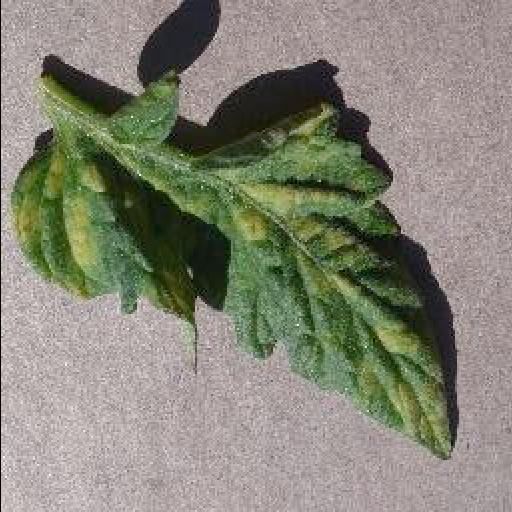disease_tomato: (11, 70, 453, 462)
